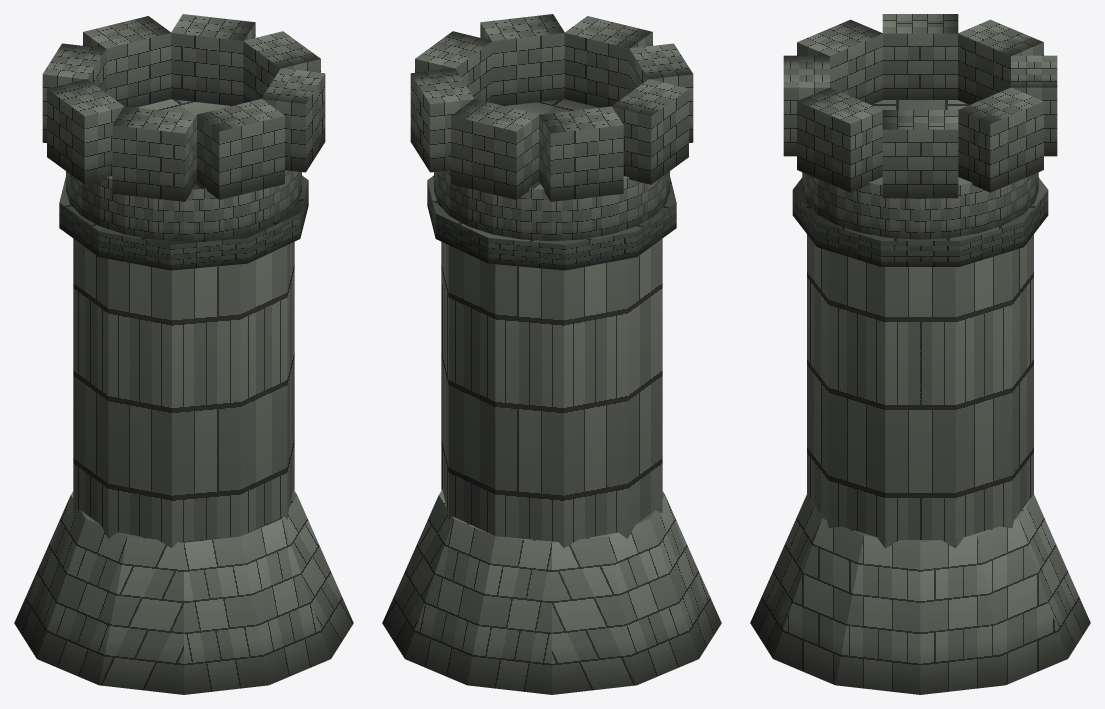
Rendered from wall_corner_dark.gltf.
3 views of the same model, side by side, from view 1: azimuth 30°, elevation 25°; view 2: azimuth 150°, elevation 25°; view 3: azimuth 270°, elevation 25° (orthographic).
Parts seen in each view (by area): view 1: wall_corner_dark; view 2: wall_corner_dark; view 3: wall_corner_dark.
Part boxes in pixels (x1,y1,x2,y2): wall_corner_dark: [14, 14, 353, 694]; wall_corner_dark: [382, 14, 721, 694]; wall_corner_dark: [750, 14, 1090, 694].
Size of the model in its own units: 0.72 by 1.29 by 0.72.
1 material, 1 textured.
